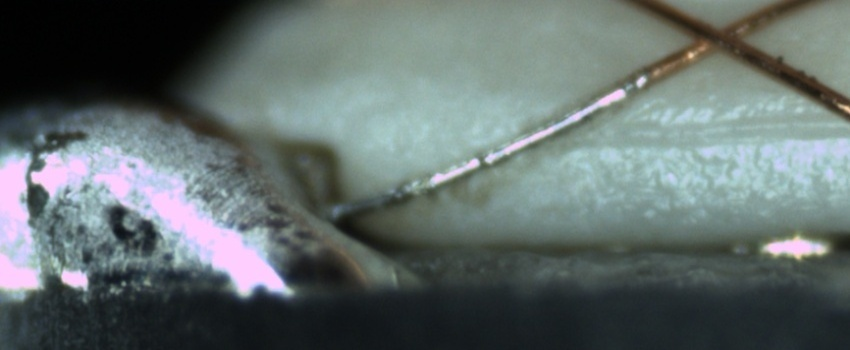CL: (668, 5, 764, 65)
DL: (586, 99, 849, 160)
TS: (331, 68, 653, 219)
